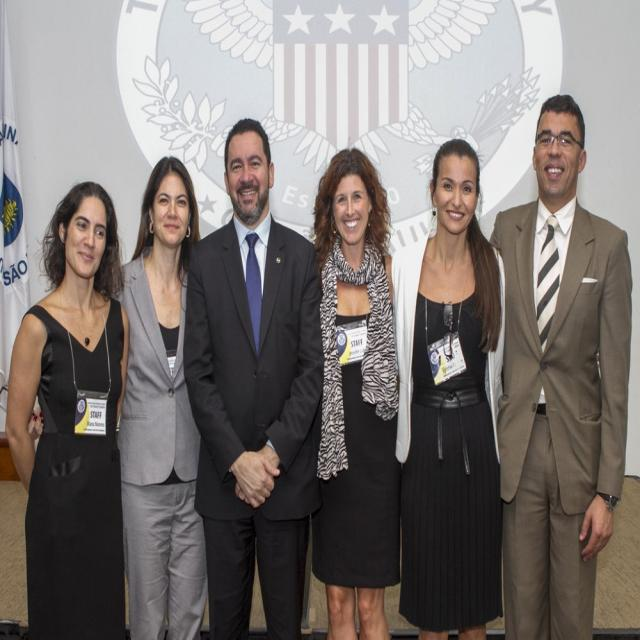body: (22, 152, 215, 639), (482, 88, 636, 639), (178, 113, 328, 639), (390, 137, 507, 640), (4, 180, 130, 640), (309, 146, 403, 640)
